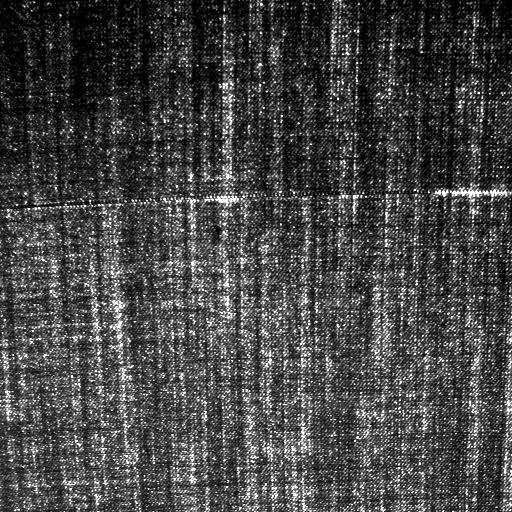fabric_hole: (25, 184, 507, 208)
